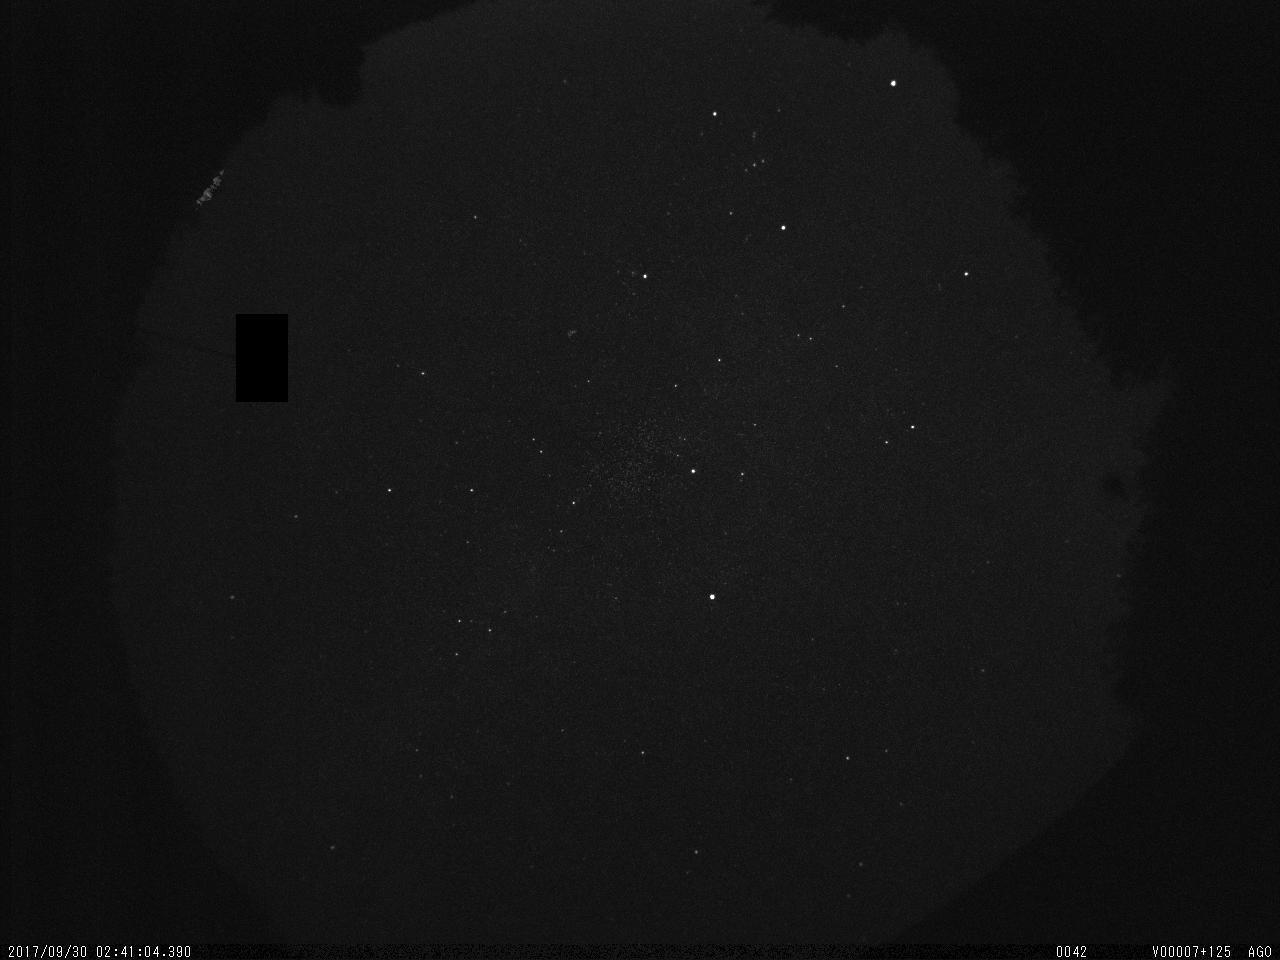TLE: (191, 163, 231, 216)
